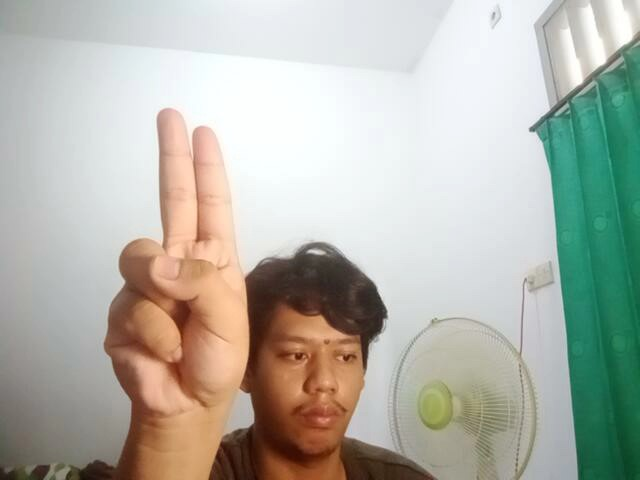U: (98, 101, 255, 420)
